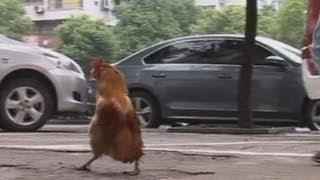AbNormal: (79, 56, 160, 178)
